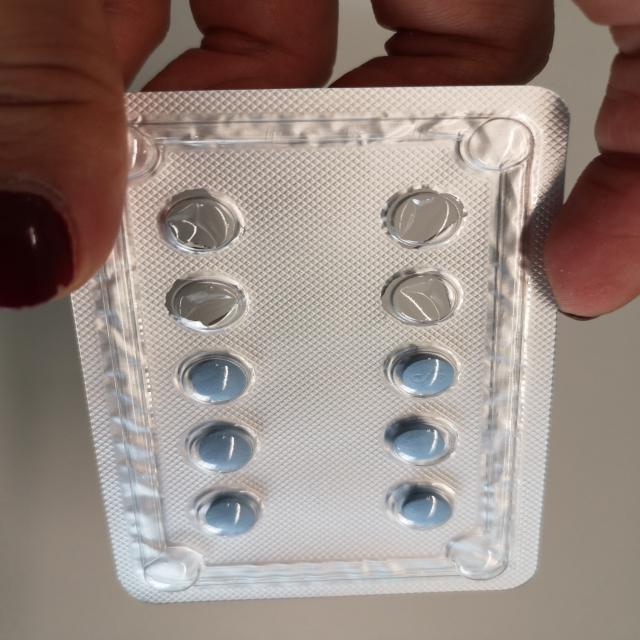Empty: (375, 184, 468, 250), (155, 191, 248, 255), (160, 273, 252, 334), (376, 268, 464, 328)
Pill: (172, 349, 254, 407), (183, 419, 261, 474), (379, 416, 458, 469), (386, 344, 462, 399), (188, 488, 265, 540), (380, 480, 458, 531)
